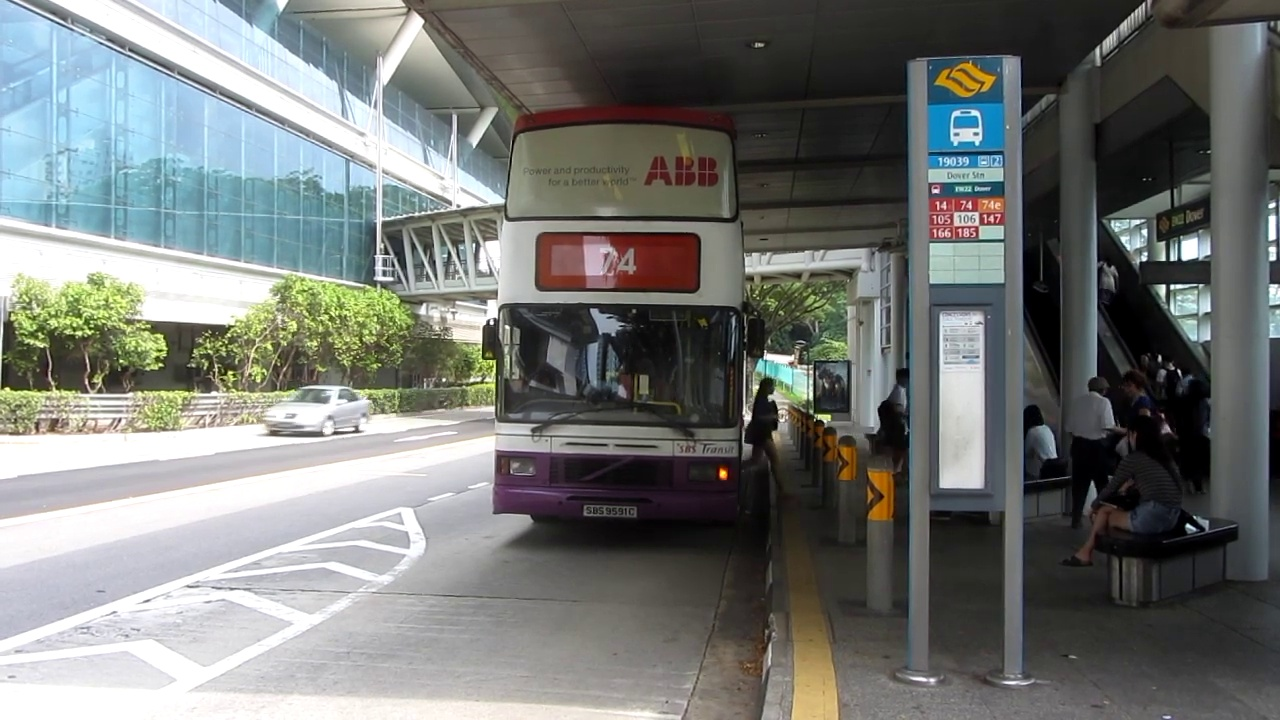bus panel: (533, 230, 703, 295)
